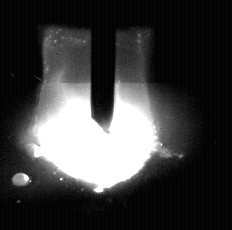arame: (91, 0, 116, 134)
poca: (30, 0, 160, 230)
